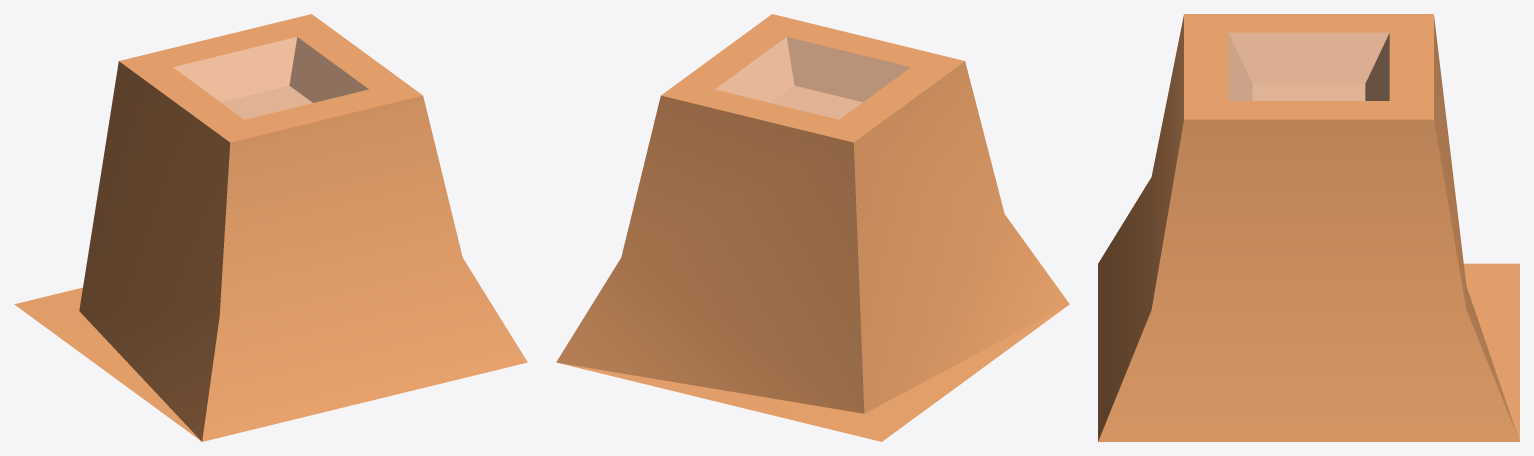
File: treeStump.fbx
3 renders of one model, left to right at view 1: azimuth 30°, elevation 25°; view 2: azimuth 150°, elevation 25°; view 3: azimuth 270°, elevation 25°, orthographic. The views are drawn at different scales.
Parts seen in each view (by area): view 1: treeStump; view 2: treeStump; view 3: treeStump.
Part boxes in pixels (x1,y1,x2,y2): treeStump: [14, 14, 527, 441]; treeStump: [556, 14, 1069, 441]; treeStump: [1098, 14, 1519, 441].
Bounding box in the file's own units: 2.81 × 2.11 × 2.81.
